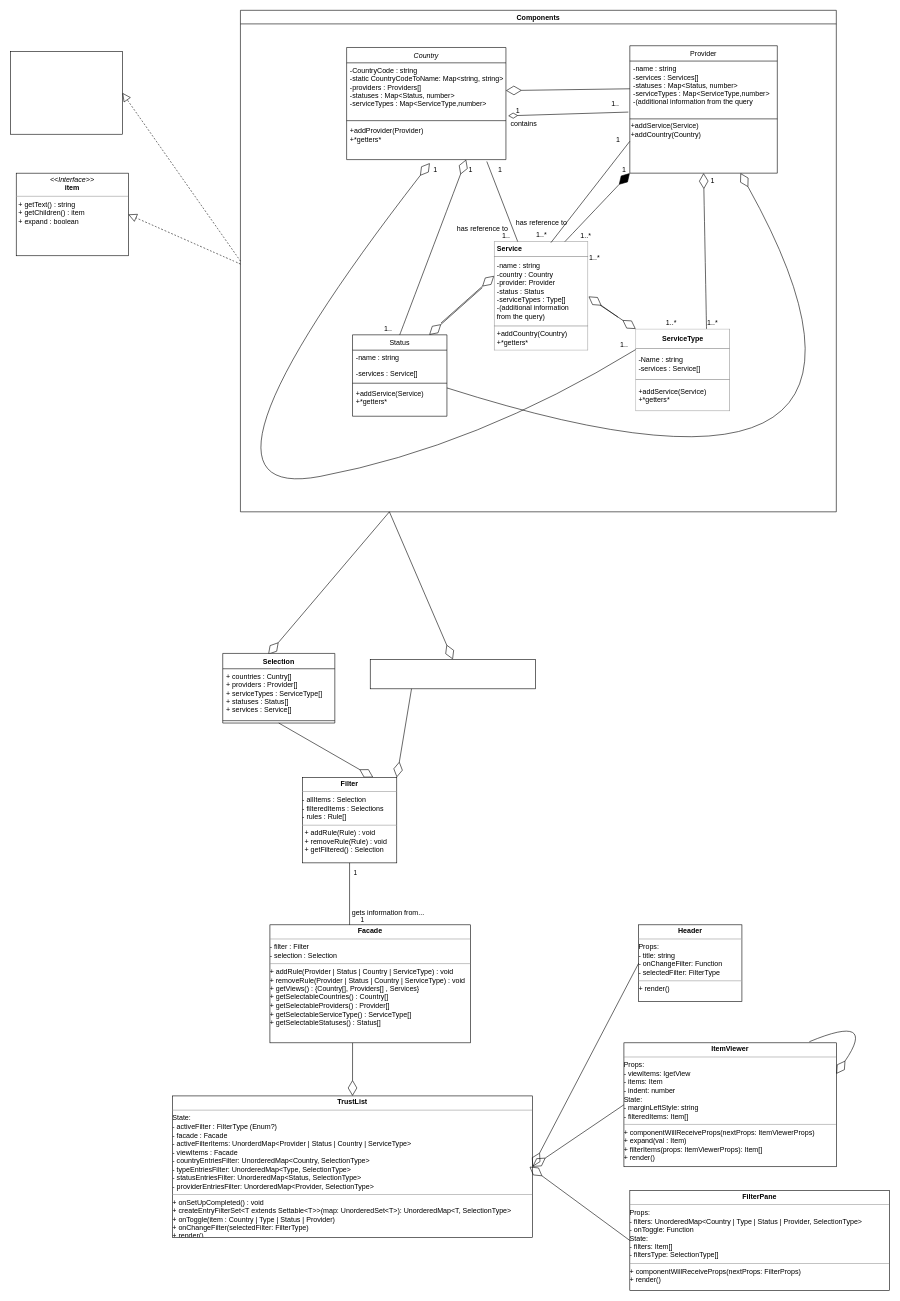
Image size: 900x1301. Some labels were removed from this diagram. Each missing label, with the centre of its shape:
<<Interface>> Settable<T> hashCode() : number isEqualTo(T) : boolean: point 66,92
Class + item : Provider | Status | Country | ServiceType: point 452,674
